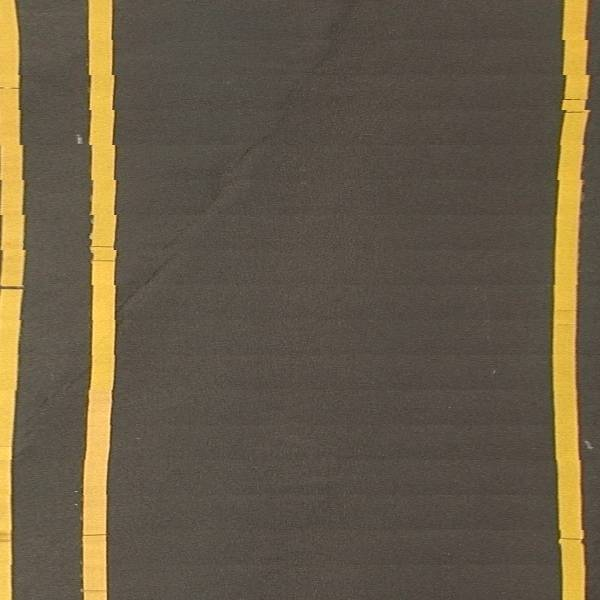road_damage: (121, 7, 355, 317), (18, 364, 90, 449)
